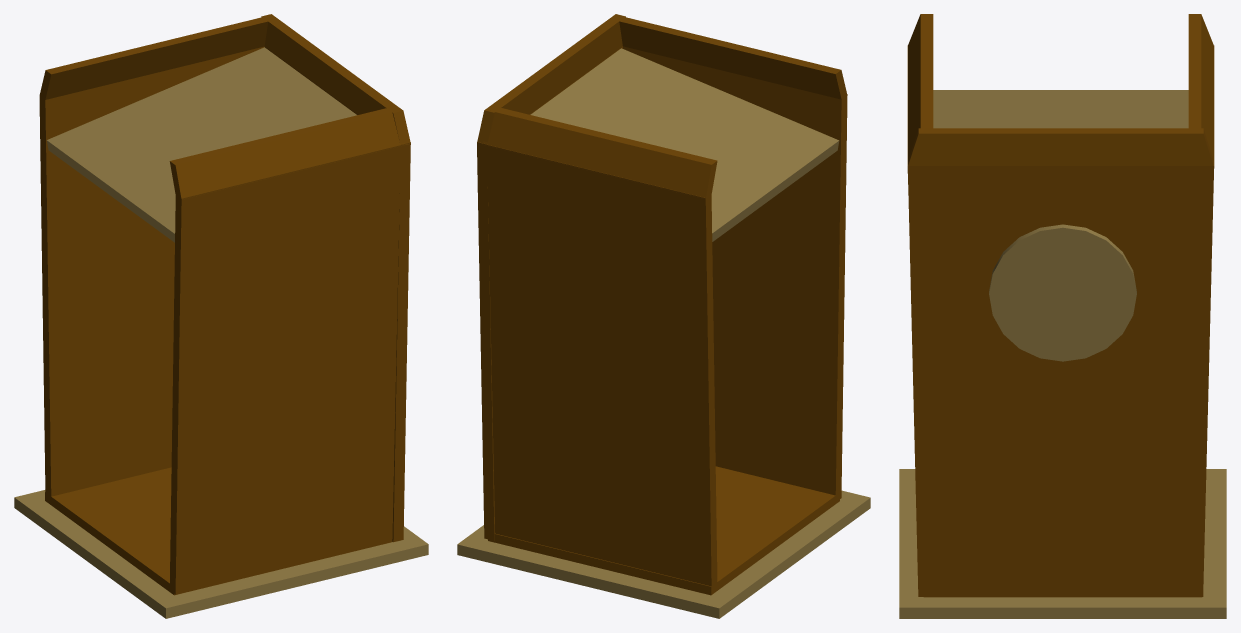
Rendered from Podium.fbx.
3 renders of one model, left to right at view 1: azimuth 30°, elevation 25°; view 2: azimuth 150°, elevation 25°; view 3: azimuth 270°, elevation 25°, orthographic. The views are drawn at different scales.
Visible parts, largest first — view 1: group3_pasted__group1_pasted__pasted__group_pasted__pasted__; view 2: group3_pasted__group1_pasted__pasted__group_pasted__pasted__; view 3: group3_pasted__group1_pasted__pasted__group_pasted__pasted__.
Boxes of the visible parts, bbox=[...] form: group3_pasted__group1_pasted__pasted__group_pasted__pasted__: bbox=[14, 14, 428, 618]; group3_pasted__group1_pasted__pasted__group_pasted__pasted__: bbox=[457, 14, 870, 618]; group3_pasted__group1_pasted__pasted__group_pasted__pasted__: bbox=[899, 14, 1226, 618].
Size of the model in its own units: 1 by 1.61 by 1.
